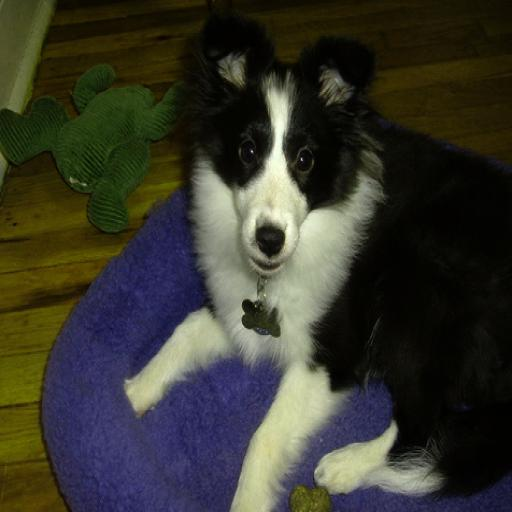dog_face: (193, 16, 376, 288)
